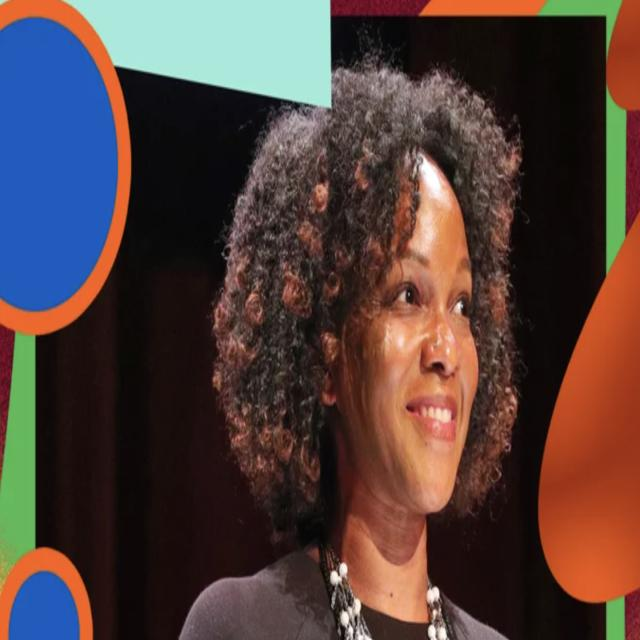sem_oculos: (356, 254, 481, 326)
